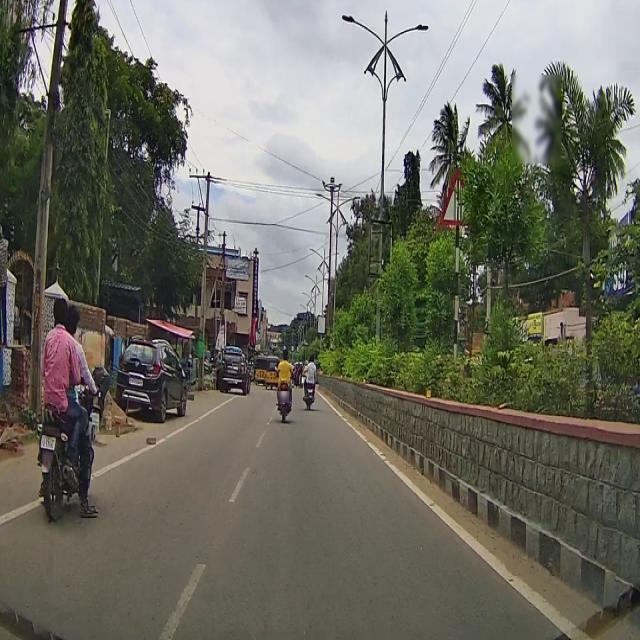gap-in-median: (443, 171, 466, 222)
